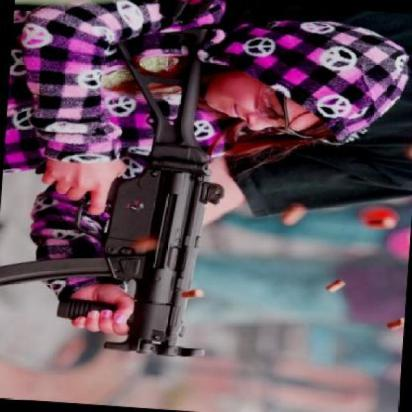Gun: (0, 12, 239, 360)
